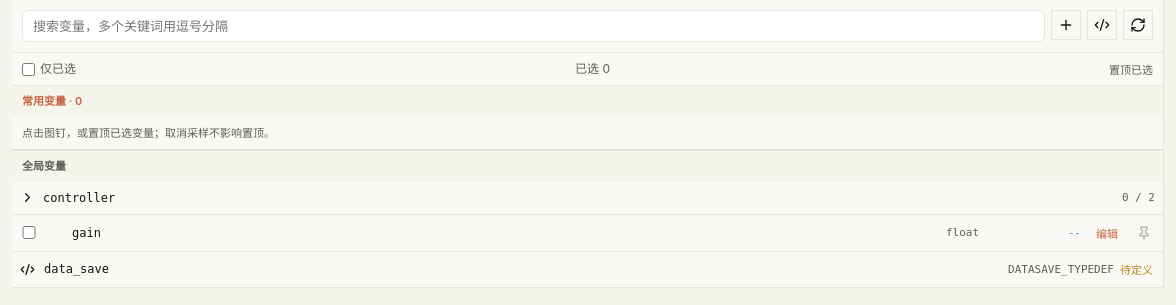
SymbolVariablePanel › shows an exact unloaded array path returned by backend search
Step 1. Type "values[999]" into the field with test id "variable-search" → (534, 26), box x1=22 y1=10 x2=1045 y2=42
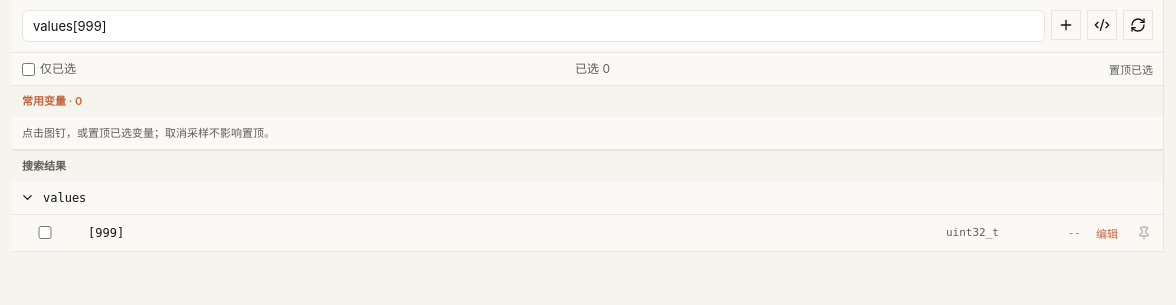
Expected: the element with test id "leaf-values[999" is shown, x1=12 y1=214 x2=1163 y2=252
